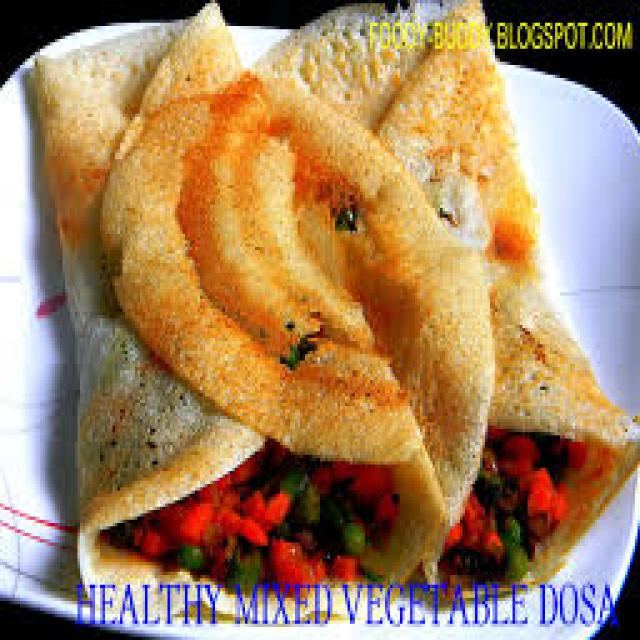DOSA: (0, 23, 180, 591), (112, 471, 638, 637), (508, 65, 638, 403)
